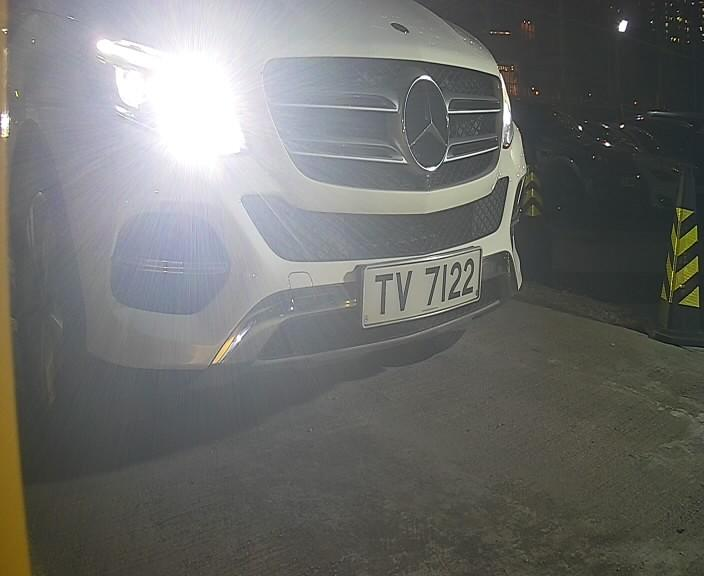Car: (16, 1, 598, 458)
License Plate: (349, 237, 491, 332)
